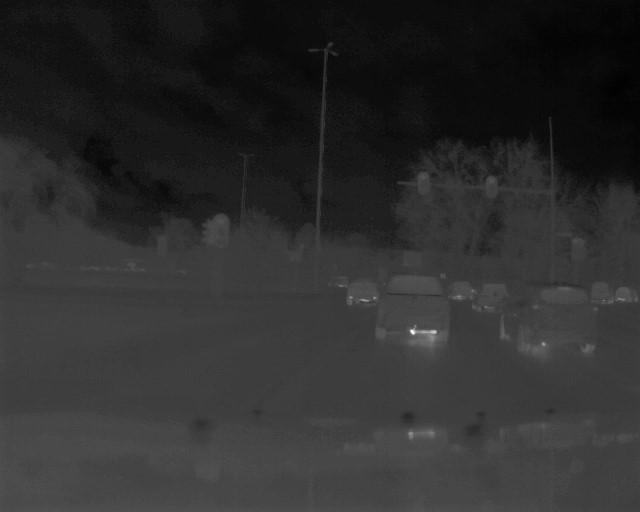car: (496, 276, 601, 356), (375, 270, 453, 348), (344, 277, 382, 305)
